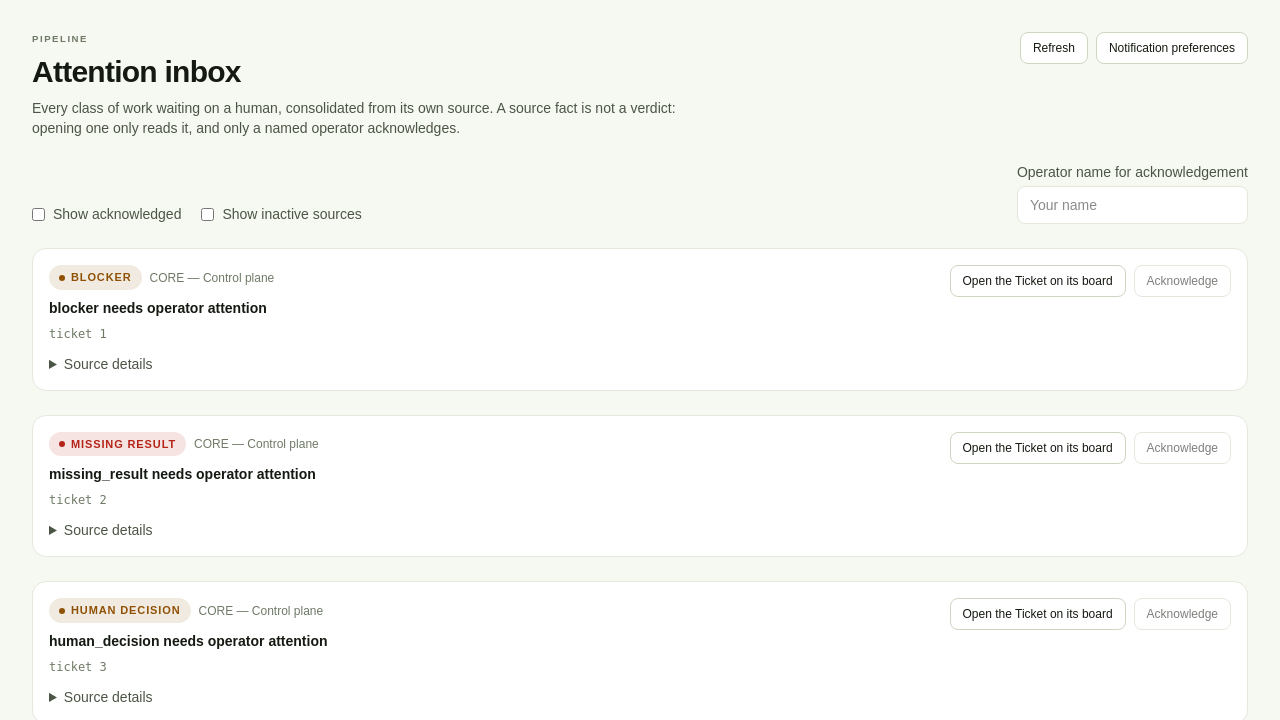
attention-inbox › shows acknowledgement history without offering a second acknowledgement
Type "Operator A" into the field with test id "attention-who" at (1132, 205), box x1=1017 y1=186 x2=1248 y2=224
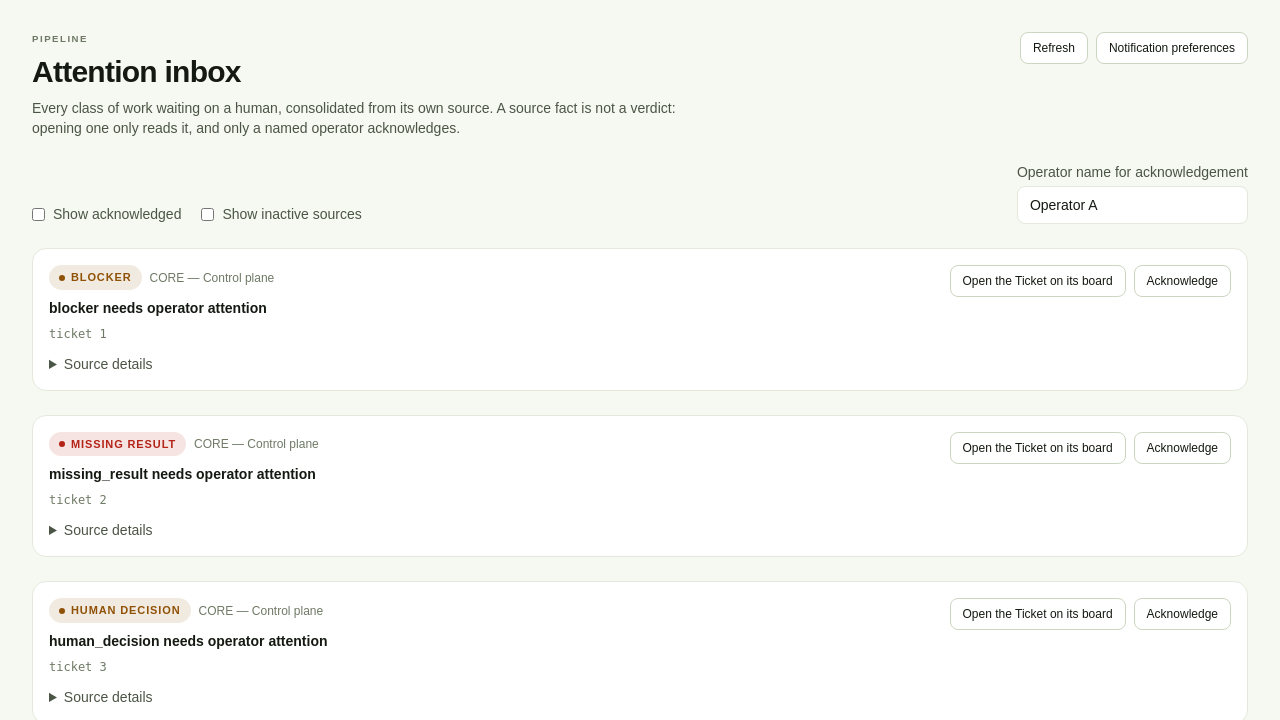
Click the button with test id "attention-ack" at (1182, 281), box x1=1134 y1=265 x2=1231 y2=297
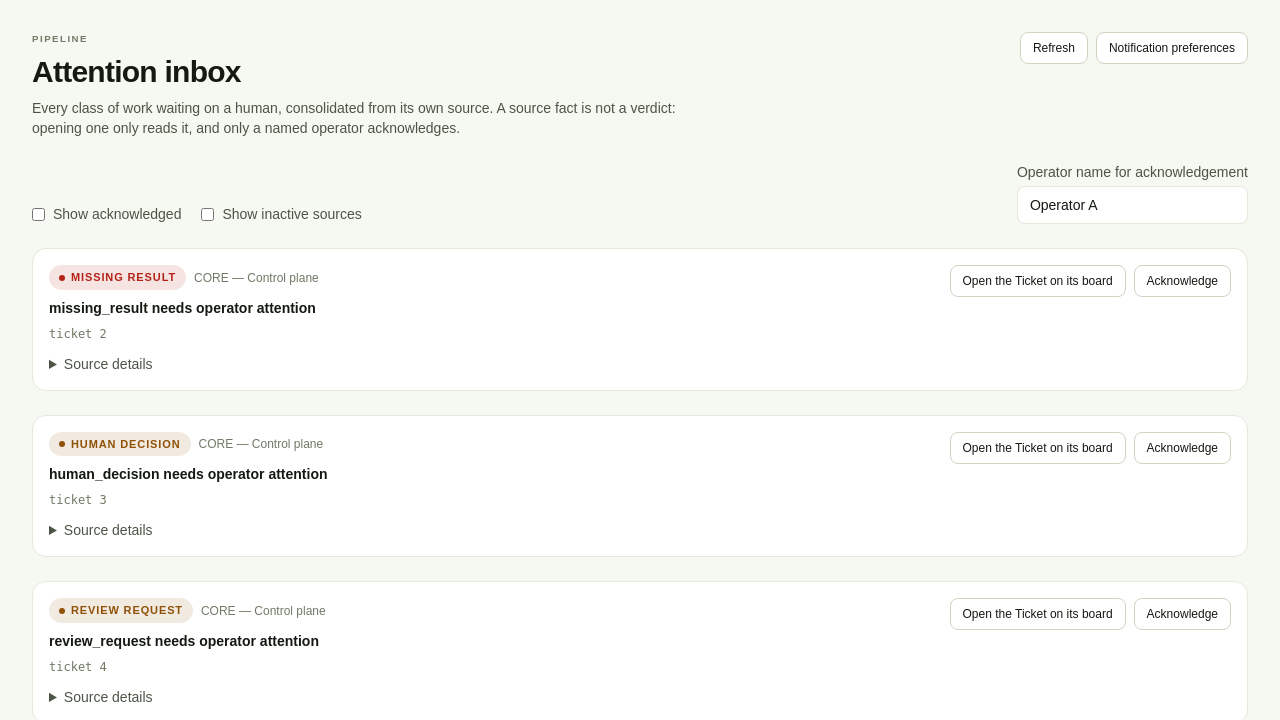
Click the checkbox with test id "attention-show-ack" at (38, 214), box x1=32 y1=208 x2=45 y2=221
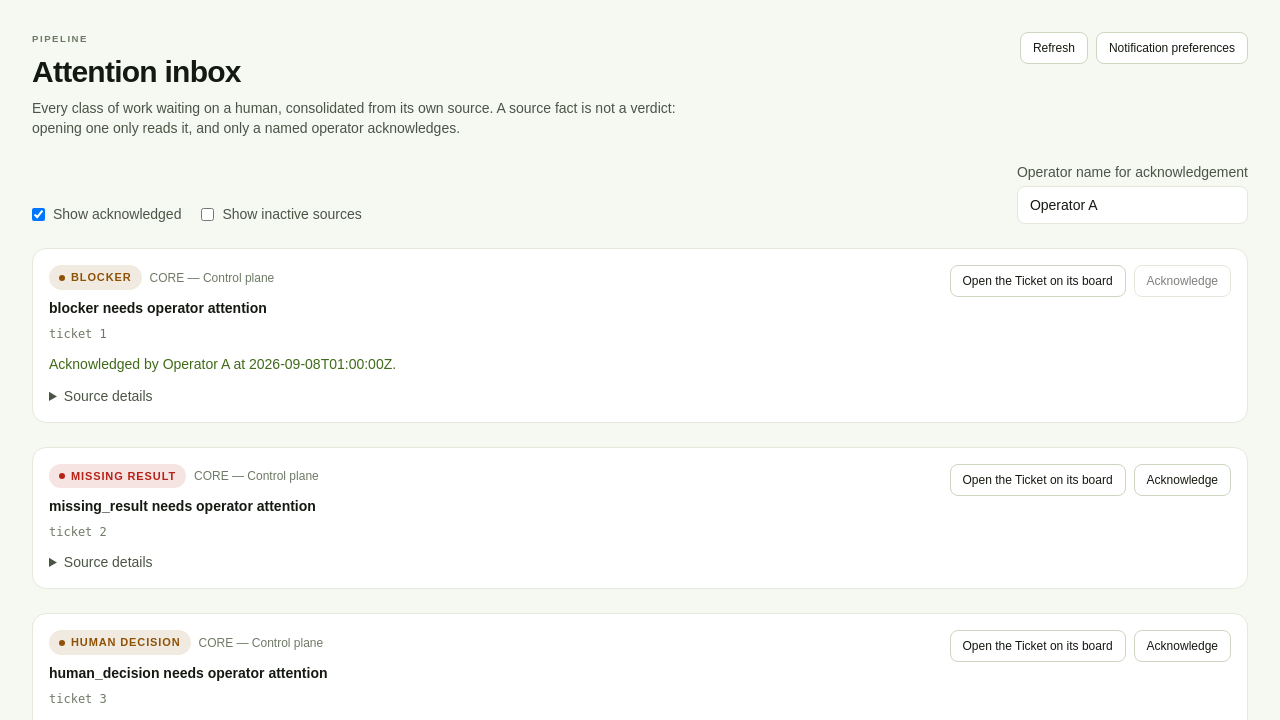
Expected: the number of elements with test id "attention-item" is 8
Expected: the text "2026-09-08T01:00:00Z" is shown, x1=49 y1=356 x2=396 y2=372
Expected: the button with test id "attention-ack" is disabled, x1=1134 y1=265 x2=1231 y2=297
